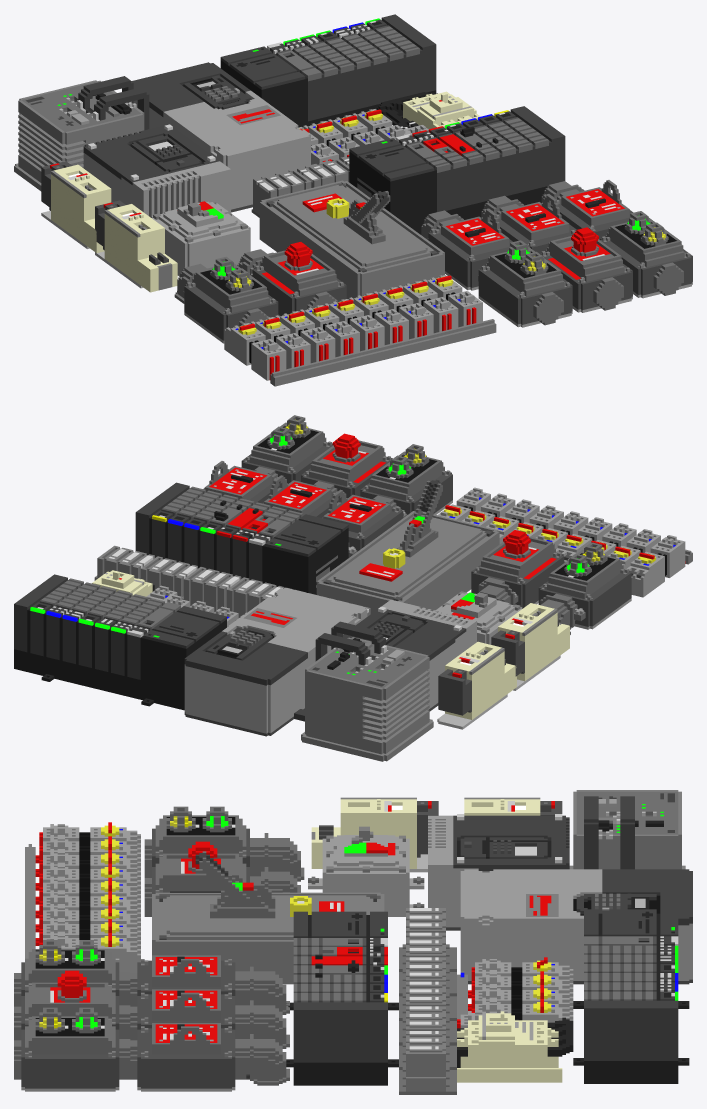
File: Stage.glb
The picture shows the model from 3 angles, top to bottom: view 1: azimuth 30°, elevation 25°; view 2: azimuth 150°, elevation 25°; view 3: azimuth 270°, elevation 25°; orthographic projection. The views are drawn at different scales.
Parts seen in each view (by area): view 1: FullScene-11, FullScene-12, FullScene-26, FullScene-10, FullScene-5, FullScene-8, ObjObject.004, FullScene-9, FullScene-6, ObjObject.003, ObjObject.002, ObjObject (+13 smaller); view 2: FullScene-12, FullScene-10, FullScene-11, FullScene-8, FullScene-26, FullScene-5, ObjObject, FullScene-7, ObjObject.001, ObjObject.002, ObjObject.004, FullScene-9 (+16 smaller); view 3: FullScene-10, FullScene-11, FullScene-12, FullScene-26, FullScene-5, FullScene-27, FullScene-23, FullScene-14, FullScene-8, FullScene-22, FullScene-13, ObjObject.003 (+22 smaller).
Part boxes in pixels (x1,y1,x2,y2): FullScene-11: (349, 106, 565, 234); FullScene-12: (220, 14, 436, 127); FullScene-26: (259, 180, 444, 299); FullScene-10: (131, 62, 310, 212); FullScene-5: (83, 124, 230, 217); FullScene-8: (14, 80, 144, 191); ObjObject.004: (224, 311, 348, 386); FullScene-9: (478, 240, 572, 327); FullScene-6: (373, 275, 496, 350); ObjObject.003: (299, 293, 422, 368); ObjObject.002: (95, 200, 177, 292); ObjObject: (183, 256, 278, 343); FullScene-12: (14, 574, 226, 710); FullScene-10: (184, 587, 367, 736); FullScene-11: (135, 482, 348, 594); FullScene-8: (301, 637, 433, 761); FullScene-26: (316, 479, 499, 613); FullScene-5: (343, 599, 476, 711); ObjObject: (538, 542, 631, 629); FullScene-7: (437, 641, 516, 729); ObjObject.001: (471, 530, 564, 608); ObjObject.002: (491, 603, 569, 690); ObjObject.004: (591, 523, 692, 597); FullScene-9: (360, 444, 452, 517); FullScene-10: (460, 869, 692, 984); FullScene-11: (286, 911, 398, 1085); FullScene-12: (573, 910, 689, 1083); FullScene-26: (152, 851, 384, 984); FullScene-5: (428, 814, 569, 930); FullScene-27: (457, 999, 573, 1082); FullScene-23: (14, 1007, 130, 1091); FullScene-14: (130, 1023, 246, 1091); FullScene-8: (569, 790, 685, 869); FullScene-22: (308, 826, 424, 916); FullScene-13: (457, 957, 573, 1019); ObjObject.003: (25, 863, 140, 932).
Bounding box in the file's own units: 10.96 × 2.26 × 13.23.
Materials: 1 (1 with a texture image).
